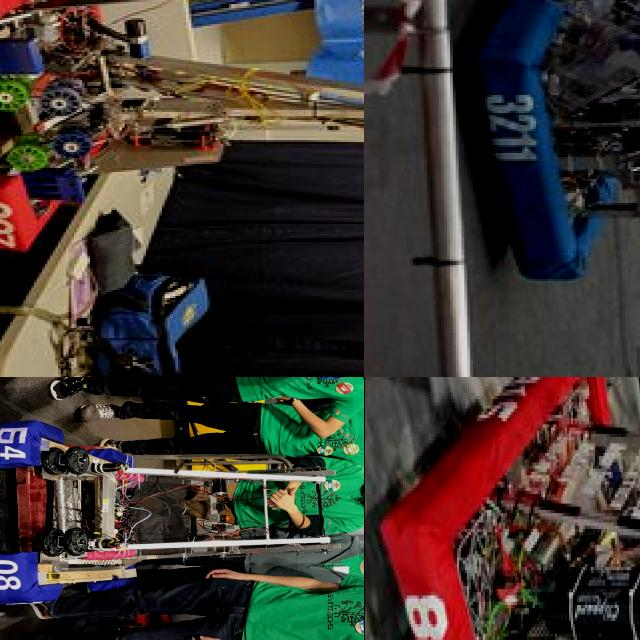FRC-Robots: (0, 0, 364, 271), (418, 0, 640, 326), (0, 411, 338, 607), (402, 380, 640, 640)
